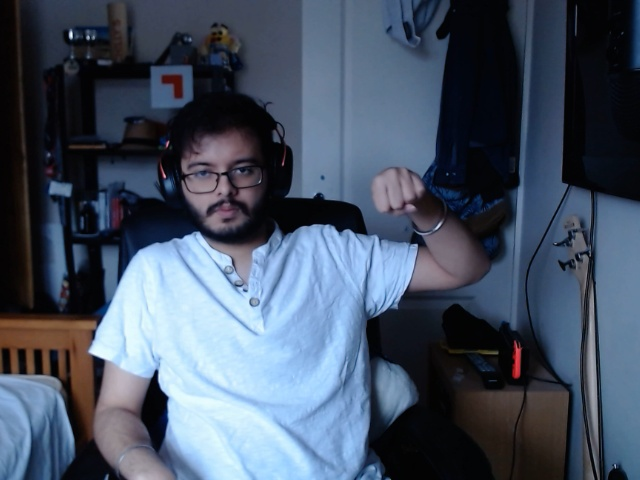Yes: (368, 157, 443, 237)
